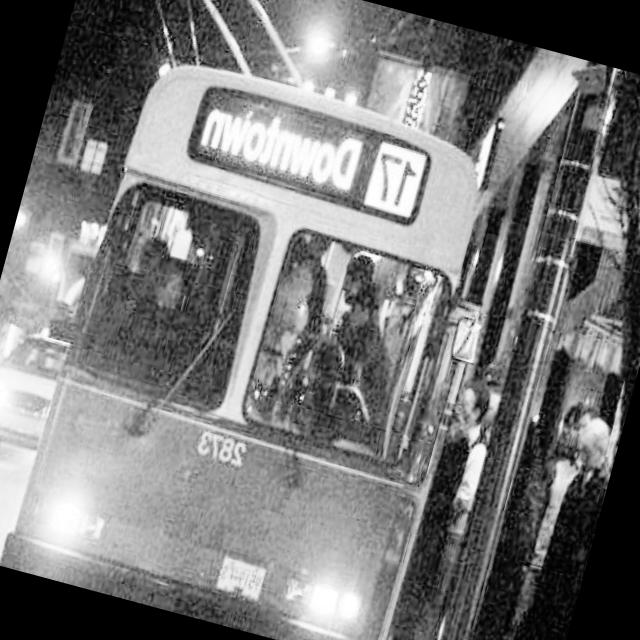Bus: (0, 38, 525, 640)
Car: (0, 299, 81, 484)
Person: (387, 375, 506, 640), (495, 407, 624, 640)
